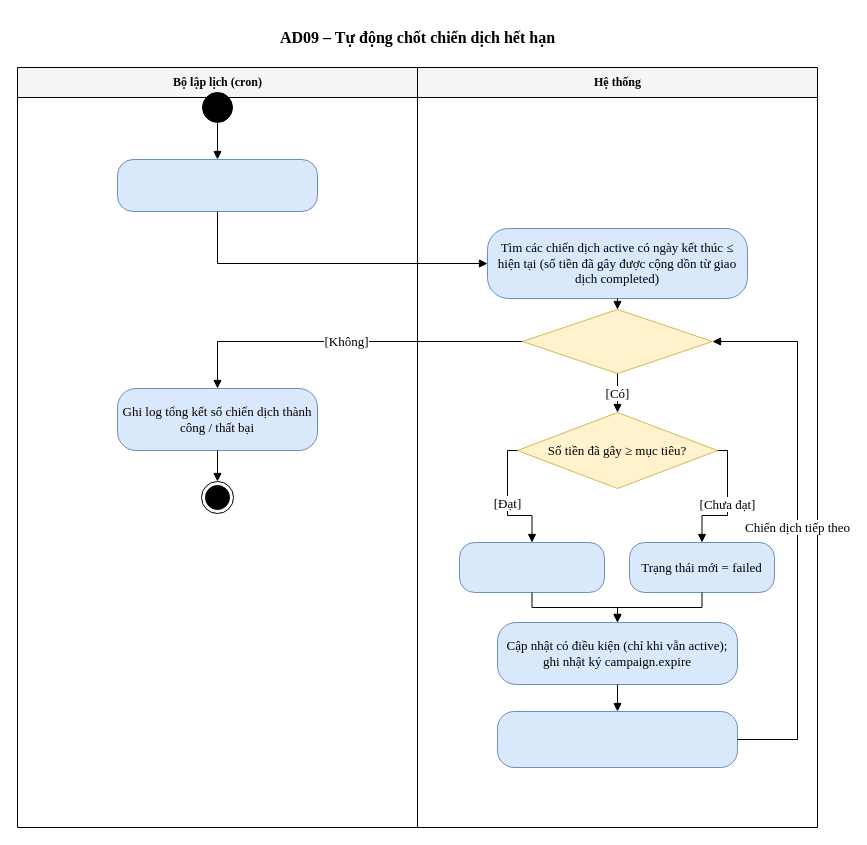
Some shapes in this 867 by 845 pixel diagram are drawn without their labels. Each missing label, with the box of its shape:
Còn chiến dịch chưa xử lý?: (522, 308, 712, 374)
Gửi thông báo cho chủ dự án và người ủng hộ: (496, 710, 738, 768)
Kích hoạt định kỳ mỗi giờ: (116, 158, 318, 212)
Trạng thái mới = success: (458, 542, 604, 592)
